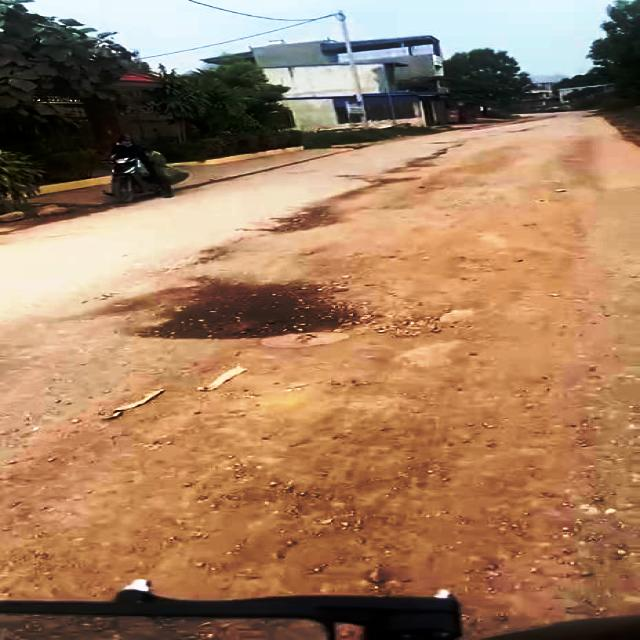pothole: (117, 284, 382, 342), (367, 281, 542, 340), (260, 202, 350, 238)
